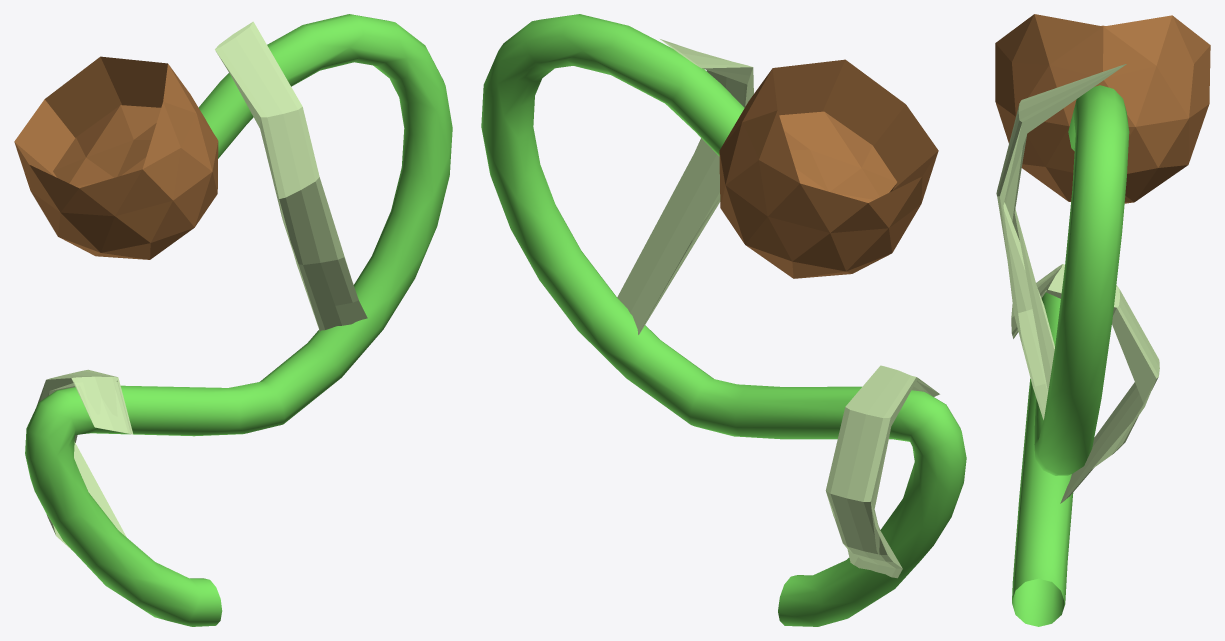
The model's file is DirtTosserModel.fbx.
The picture shows the model from 3 angles, left to right: view 1: azimuth 30°, elevation 25°; view 2: azimuth 150°, elevation 25°; view 3: azimuth 270°, elevation 25°; orthographic projection. The views are drawn at different scales.
Parts seen in each view (by area): view 1: Stem, Head, Leafs; view 2: Stem, Head, Leafs; view 3: Stem, Head, Leafs.
Part boxes in pixels (box(x1,y1,x2,y2)): Stem: box(25, 14, 452, 626); Head: box(14, 56, 218, 259); Leafs: box(36, 21, 367, 549); Stem: box(481, 14, 966, 626); Head: box(719, 59, 938, 278); Leafs: box(617, 39, 939, 578); Stem: box(1012, 85, 1129, 626); Head: box(995, 14, 1210, 203); Leafs: box(996, 64, 1159, 503).
Bounding box in the file's own units: 205 × 250 × 80.42.
